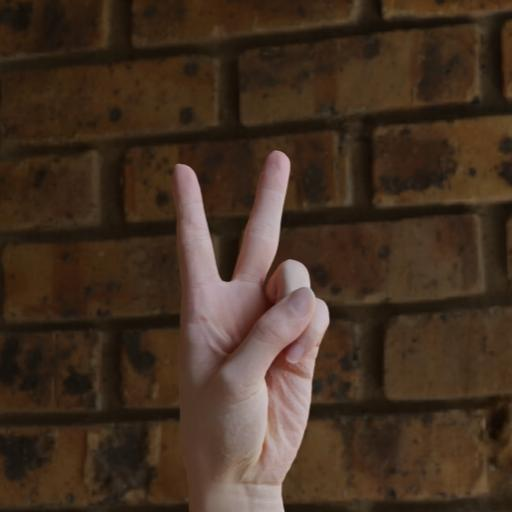V: (161, 137, 336, 512)
